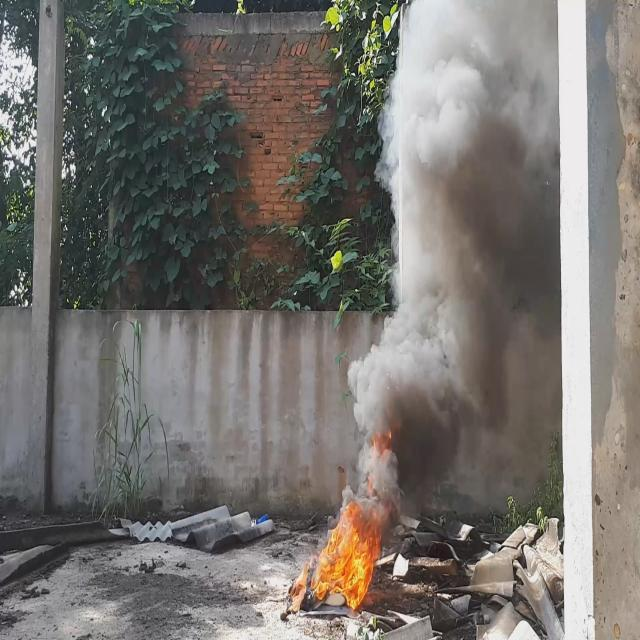Fire: (312, 493, 382, 608)
Smoke: (348, 0, 560, 525)
